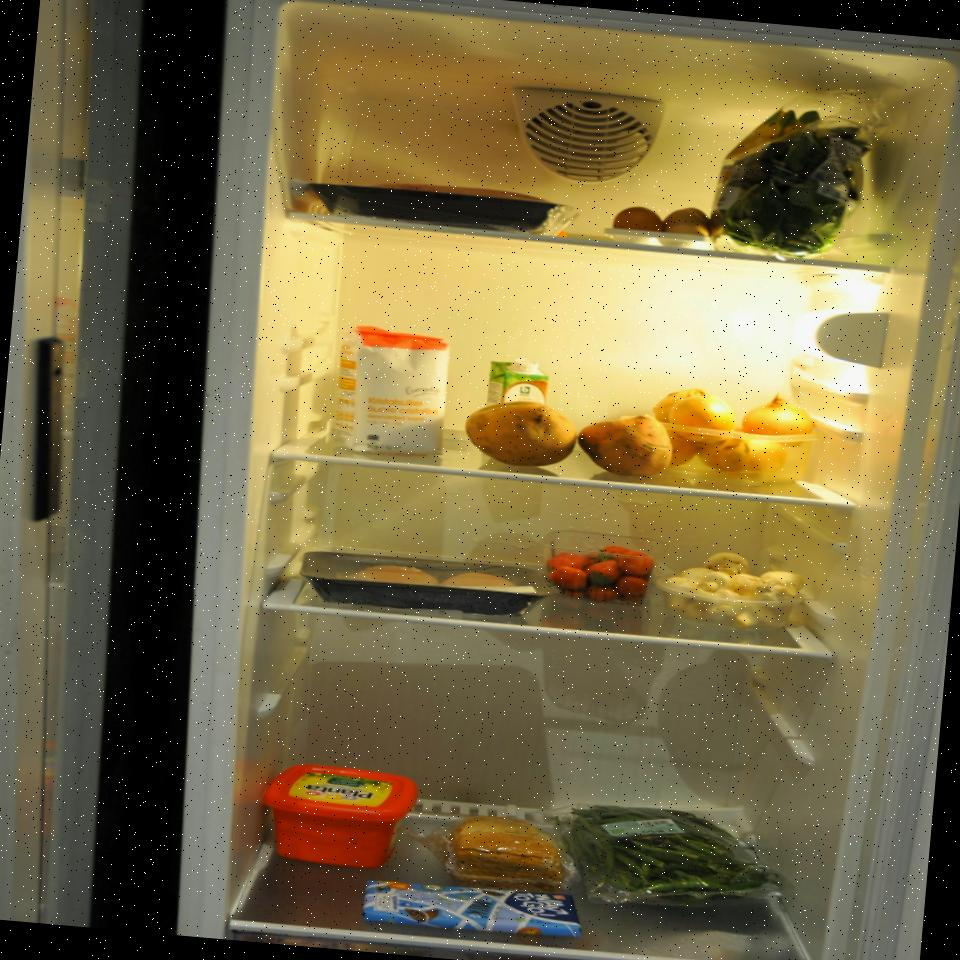Carne pollo: (298, 545, 550, 620)
Huevos: (607, 198, 717, 253)
Mantequilla: (256, 758, 422, 878)
strawberries: (541, 533, 658, 606)
